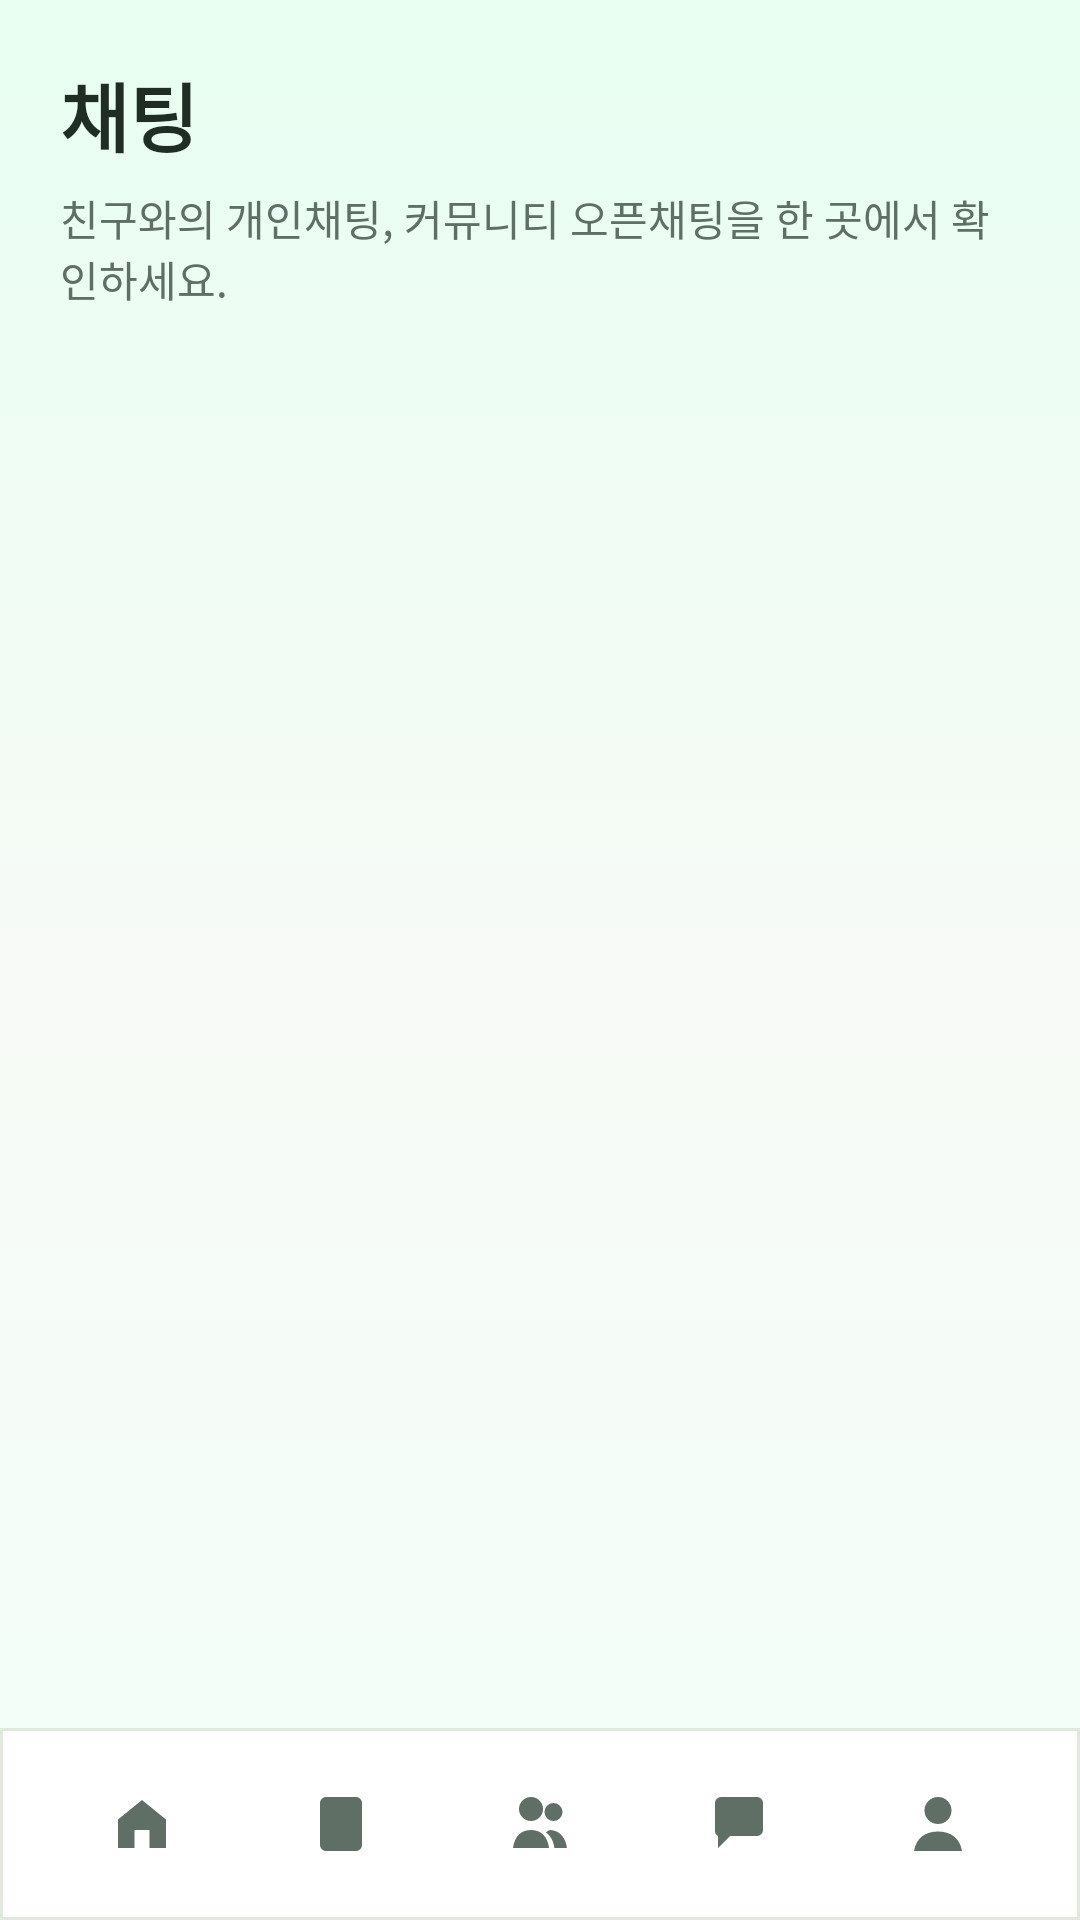

Icons on this 1080×1920 Android screen, each with the point to tap as (x,y):
home: (142,1824)
마이페이지: (938,1824)
친구: (540,1822)
